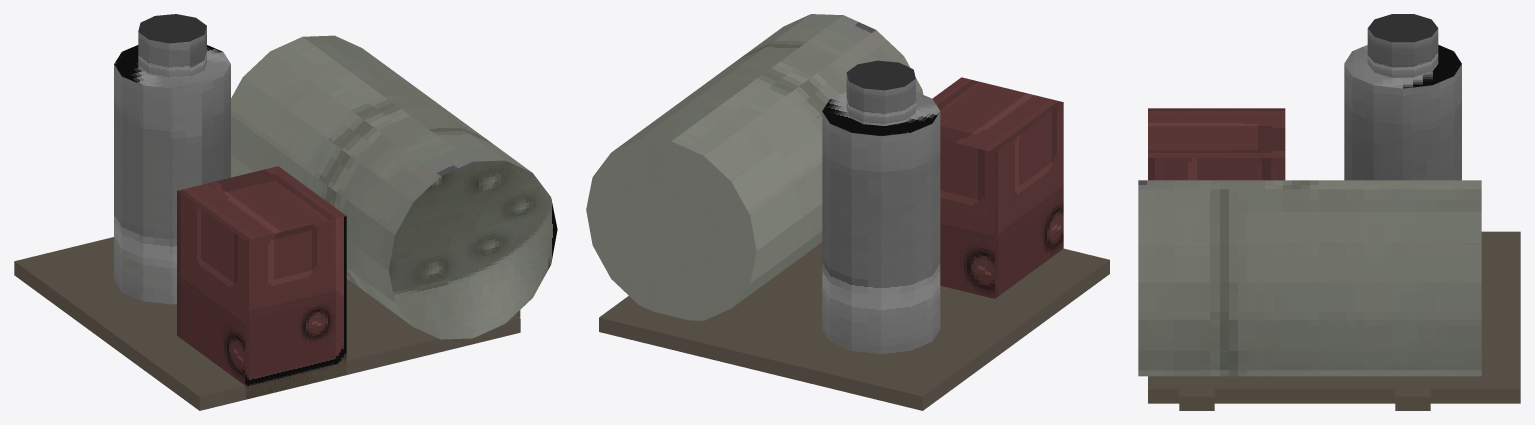
The model's file is Building_ChemfuelPoweredGenerator.glb.
3 renders of one model, left to right at view 1: azimuth 30°, elevation 25°; view 2: azimuth 150°, elevation 25°; view 3: azimuth 270°, elevation 25°, orthographic.
Visible parts, largest first — view 1: ChemfuelPoweredGenerator; view 2: ChemfuelPoweredGenerator; view 3: ChemfuelPoweredGenerator.
Part boxes in pixels (box(x1,y1,x2,y2)): ChemfuelPoweredGenerator: box(14, 14, 557, 410); ChemfuelPoweredGenerator: box(586, 14, 1109, 410); ChemfuelPoweredGenerator: box(1138, 14, 1520, 410).
Size of the model in its own units: 2.09 by 1.5 by 1.95.
1 material, 1 textured.
